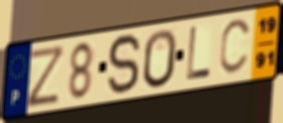8: (68, 40, 96, 102)
C: (217, 17, 254, 78)
L: (185, 25, 213, 83)
O: (142, 28, 179, 91)
S: (106, 32, 143, 99)
Z: (26, 43, 68, 110)
